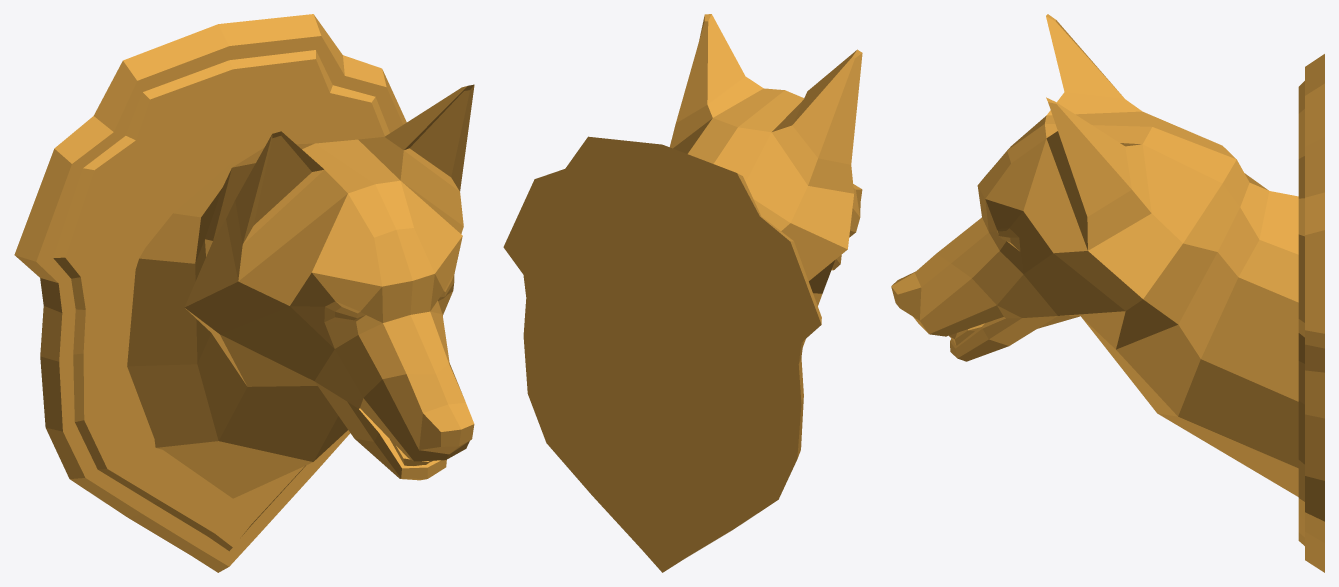
File: SM_Trophy_Wolf.fbx
3 views of the same model, side by side, from view 1: azimuth 30°, elevation 25°; view 2: azimuth 150°, elevation 25°; view 3: azimuth 270°, elevation 25° (orthographic). The views are drawn at different scales.
Parts seen in each view (by area): view 1: trophy-wolf; view 2: trophy-wolf; view 3: trophy-wolf.
Part boxes in pixels (x1,y1,x2,y2): trophy-wolf: (14, 14, 474, 572); trophy-wolf: (503, 14, 862, 572); trophy-wolf: (891, 14, 1324, 572).
Size of the model in its own units: 0.4796 by 0.6508 by 0.4955.
